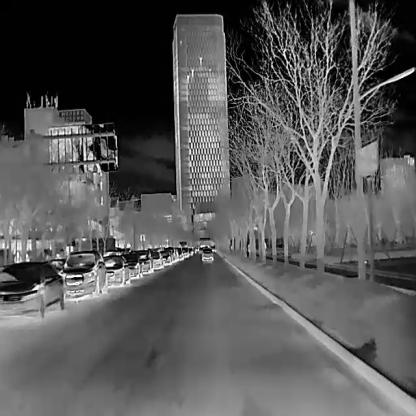car: (0, 260, 64, 321), (62, 249, 108, 298), (101, 254, 130, 286), (124, 252, 143, 279), (134, 247, 152, 274), (152, 249, 163, 270), (200, 246, 213, 262), (162, 247, 172, 265)
